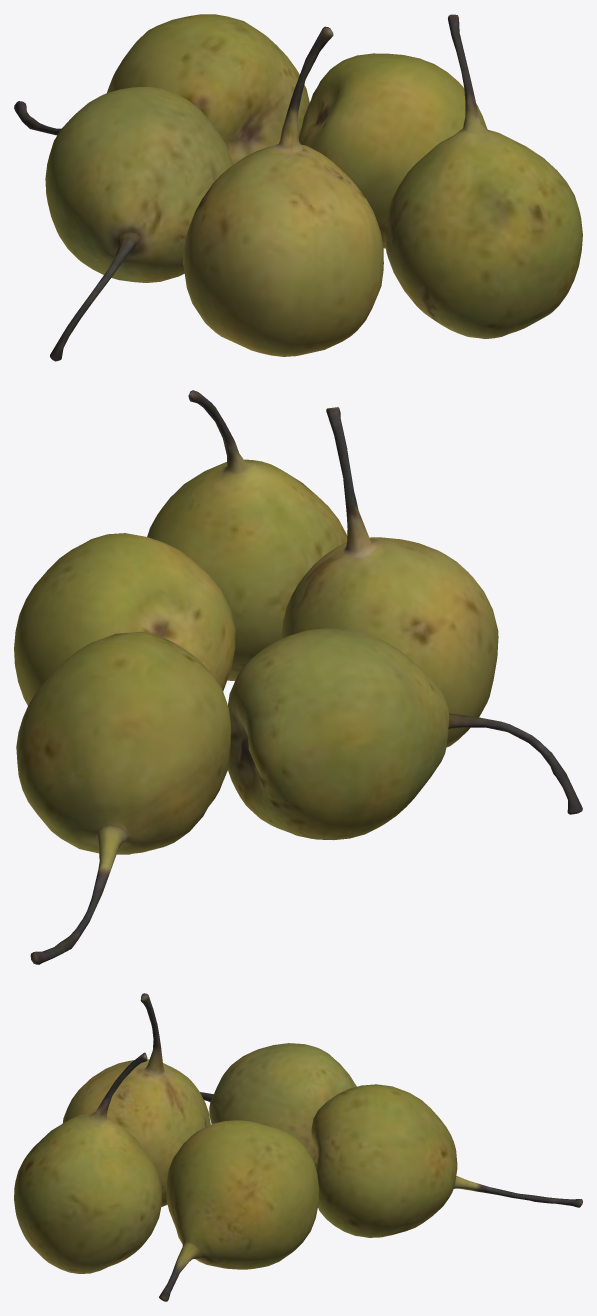
File: food_pears_asian_01.glb
The picture shows the model from 3 angles, top to bottom: view 1: azimuth 30°, elevation 25°; view 2: azimuth 150°, elevation 25°; view 3: azimuth 270°, elevation 25°; orthographic projection. The views are drawn at different scales.
Visible parts, largest first — view 1: food_pears_asian_01_b; view 2: food_pears_asian_01_b; view 3: food_pears_asian_01_b.
Boxes of the visible parts, <box> form: food_pears_asian_01_b: <box>14,14,582,361</box>; food_pears_asian_01_b: <box>14,390,582,964</box>; food_pears_asian_01_b: <box>14,993,582,1301</box>.
Size of the model in its own units: 0.1261 by 0.0711 by 0.1669.
1 material, 1 textured.
